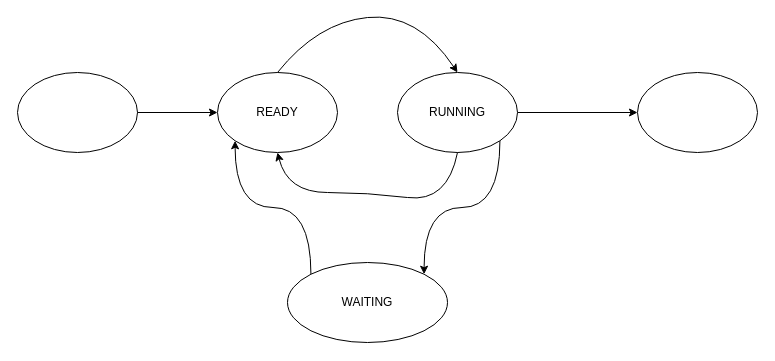
Image size: 775x361. Some labels were removed from this diagram. The shapes that lost their labels are listed below. From the top down, each one's box as (x1, y1, x2, y2) in pixels, then its label:
(16, 72, 138, 152): NEW
(636, 72, 758, 152): TERMINATED
